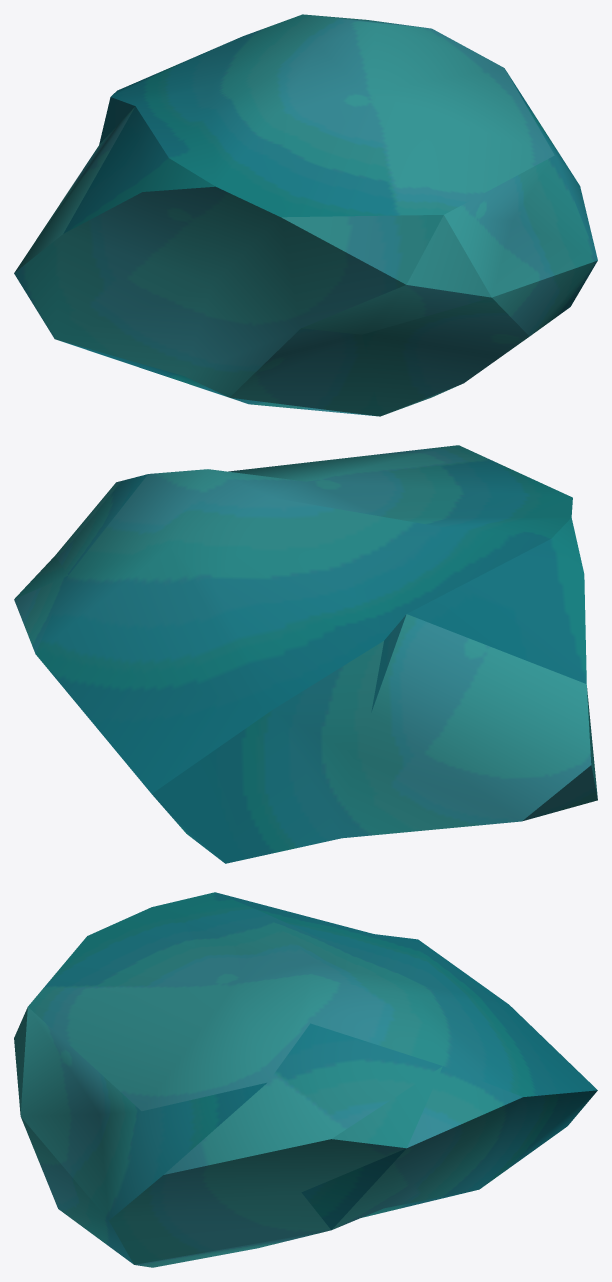
File: Rock3.FBX
3 renders of one model, top to bottom at view 1: azimuth 30°, elevation 25°; view 2: azimuth 150°, elevation 25°; view 3: azimuth 270°, elevation 25°, orthographic. The views are drawn at different scales.
Parts seen in each view (by area): view 1: Rock_3; view 2: Rock_3; view 3: Rock_3.
Boxes of the visible parts, x1=… form: Rock_3: x1=14, y1=14, x2=597, y2=416; Rock_3: x1=14, y1=445, x2=597, y2=863; Rock_3: x1=14, y1=892, x2=597, y2=1267.
Bounding box in the file's own units: 78.31 × 49.52 × 84.58.
